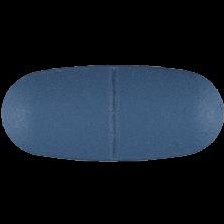63874-339: (0, 0, 224, 224)
